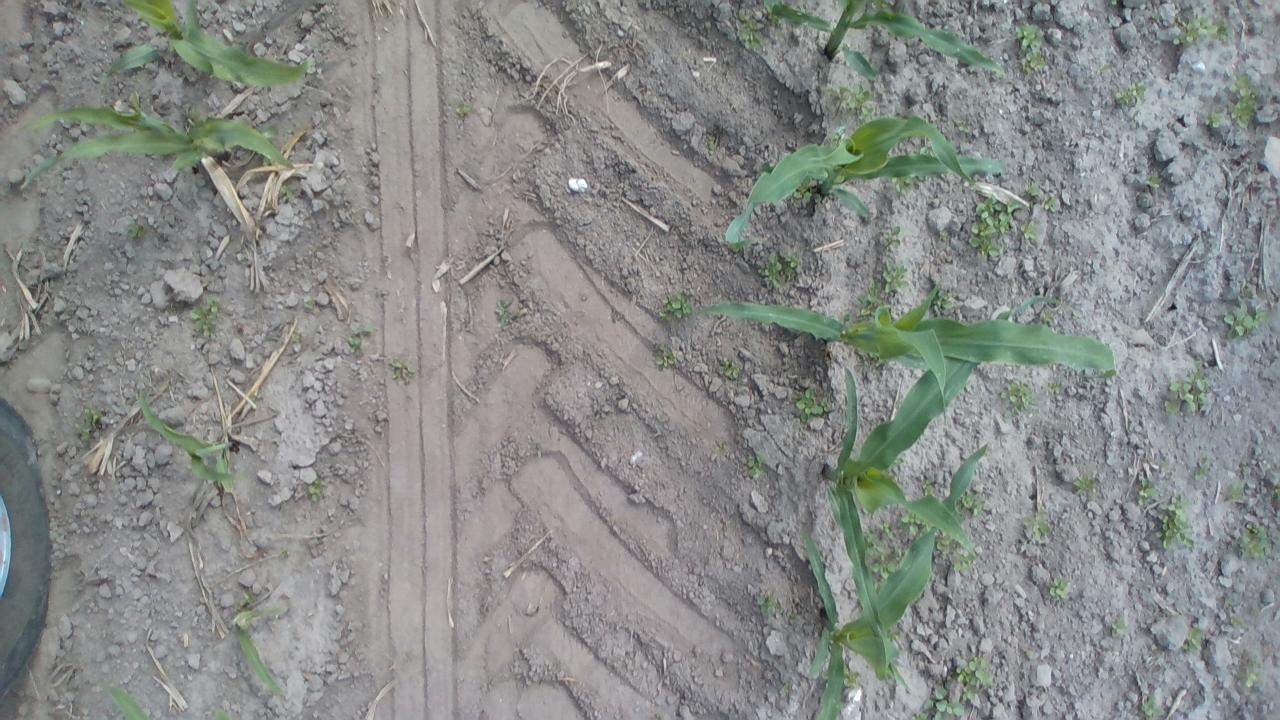Maize: (832, 292, 1066, 692), (686, 282, 1121, 429), (788, 440, 992, 720), (719, 120, 1009, 256), (7, 98, 300, 192), (100, 0, 316, 95), (764, 2, 1009, 82), (137, 383, 246, 492), (221, 592, 286, 702), (106, 682, 236, 720)
Weeds: (966, 200, 1021, 263), (1162, 361, 1216, 421), (824, 78, 880, 126), (1169, 9, 1229, 52), (1159, 492, 1197, 552), (1221, 289, 1263, 343), (1228, 66, 1262, 132), (864, 521, 901, 580), (953, 654, 996, 702), (1014, 20, 1046, 78), (188, 292, 223, 344), (937, 531, 976, 576), (793, 386, 838, 425), (849, 278, 887, 324), (762, 250, 802, 290), (1021, 509, 1062, 548), (918, 685, 962, 720), (494, 296, 532, 336), (658, 288, 698, 325), (736, 12, 771, 54), (753, 588, 790, 626), (1000, 380, 1032, 422), (1235, 524, 1268, 564), (383, 355, 424, 385), (924, 286, 962, 317), (1232, 644, 1260, 686), (1040, 575, 1074, 608), (75, 404, 106, 440), (346, 322, 380, 354), (738, 451, 774, 481), (1114, 84, 1152, 112), (1138, 688, 1170, 720), (899, 509, 930, 540), (715, 353, 747, 383), (1099, 610, 1133, 638), (878, 222, 907, 252), (957, 494, 989, 521), (888, 265, 915, 295), (1071, 472, 1102, 498), (126, 216, 150, 247), (654, 341, 676, 374), (789, 182, 819, 206), (1189, 461, 1220, 484), (1182, 625, 1206, 654), (1198, 108, 1227, 132), (304, 476, 328, 504), (1132, 481, 1160, 505), (836, 662, 859, 691), (124, 91, 150, 115), (1225, 480, 1248, 506), (889, 173, 916, 195), (1136, 172, 1162, 193), (697, 134, 719, 158), (449, 98, 474, 117), (302, 294, 322, 316), (1042, 376, 1062, 397), (1042, 194, 1062, 215), (918, 478, 938, 498), (274, 182, 294, 202), (1020, 224, 1040, 244), (289, 328, 307, 350), (1094, 60, 1118, 76), (952, 123, 973, 141), (930, 221, 949, 240), (1222, 614, 1242, 632), (1026, 182, 1042, 202), (784, 603, 798, 624), (1221, 589, 1236, 608)
